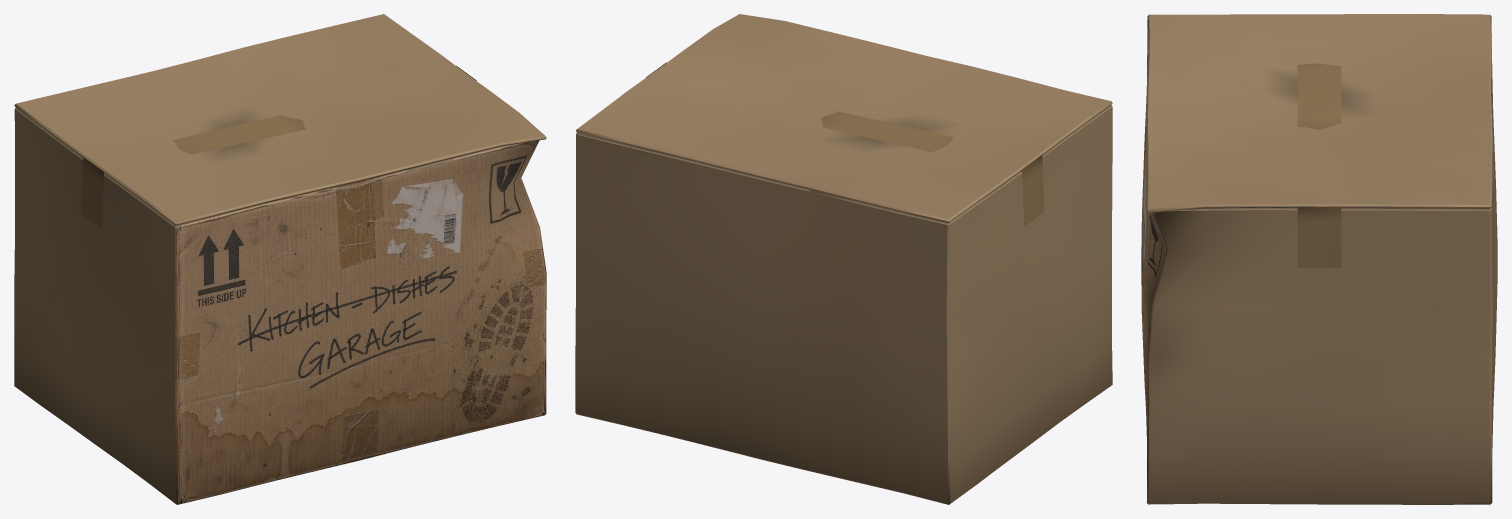
The model's file is box_closed.glb.
3 views of the same model, side by side, from view 1: azimuth 30°, elevation 25°; view 2: azimuth 150°, elevation 25°; view 3: azimuth 270°, elevation 25° (orthographic). The views are drawn at different scales.
Parts seen in each view (by area): view 1: box_closed; view 2: box_closed; view 3: box_closed.
Part boxes in pixels (<box>): box_closed: <box>14,14,546,504</box>; box_closed: <box>575,14,1112,504</box>; box_closed: <box>1141,14,1497,504</box>.
Bounding box in the file's own units: 0.5117 × 0.3662 × 0.3931.
Materials: 3 (1 with a texture image).
